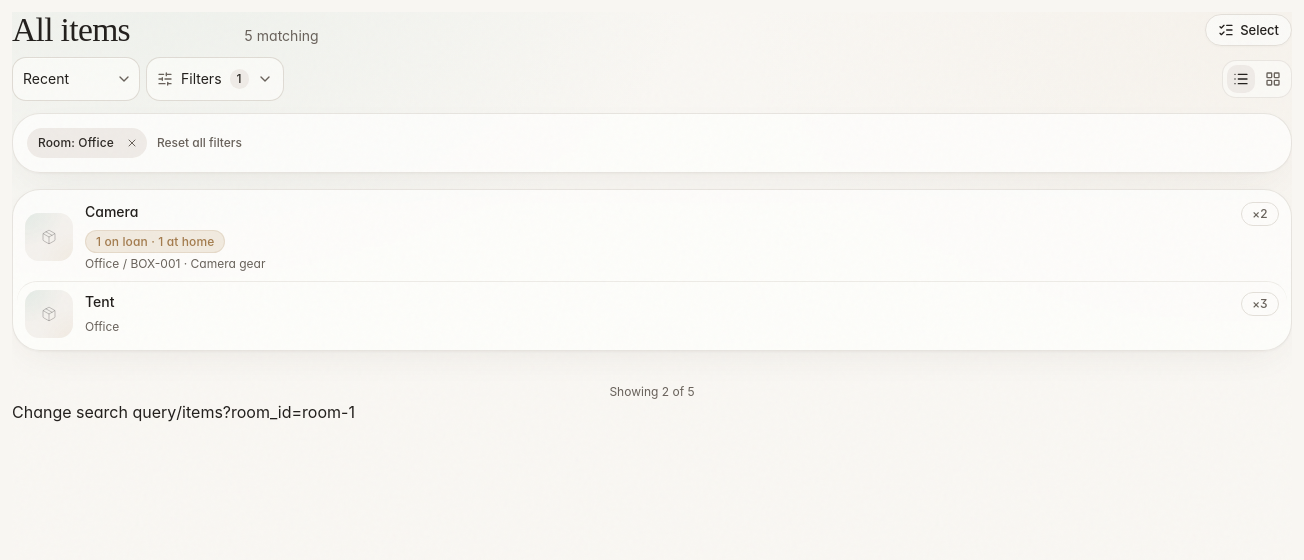
Scenario: ItemsPage bulk organisation › toggles the filter panel and shows the active filter count
The image size is (1304, 560).
Expected: the text "Camera" is shown, left=85, top=203, right=138, bottom=220
Click the button "Filters 1" at (215, 79), box left=146, top=57, right=284, bottom=101
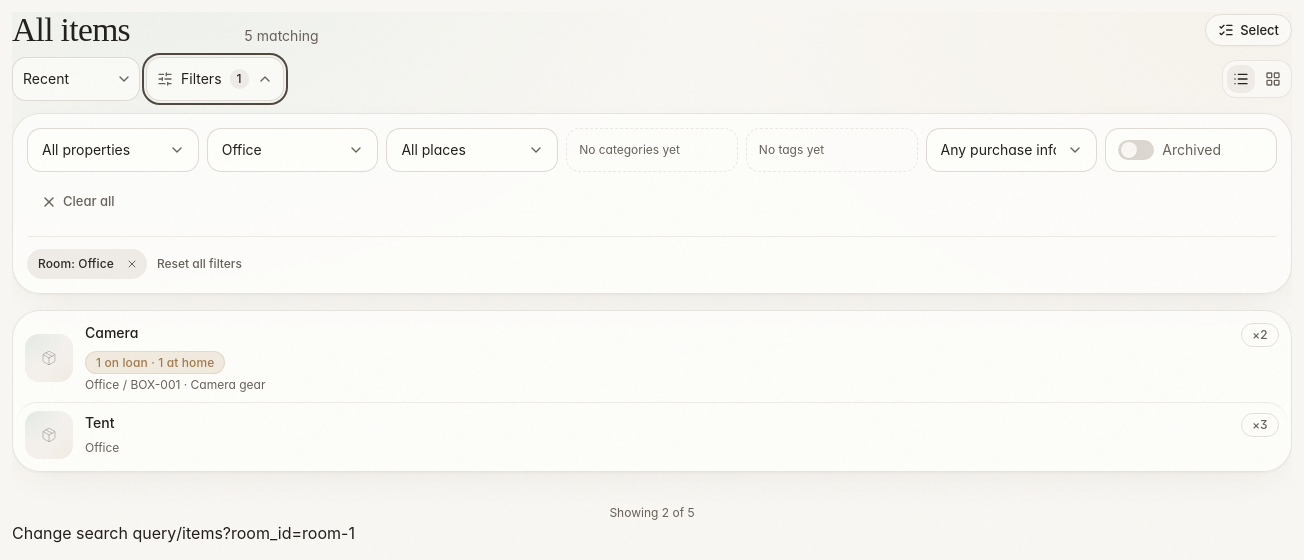
Expected: the button "Filters 1" is expanded, left=146, top=57, right=284, bottom=101
